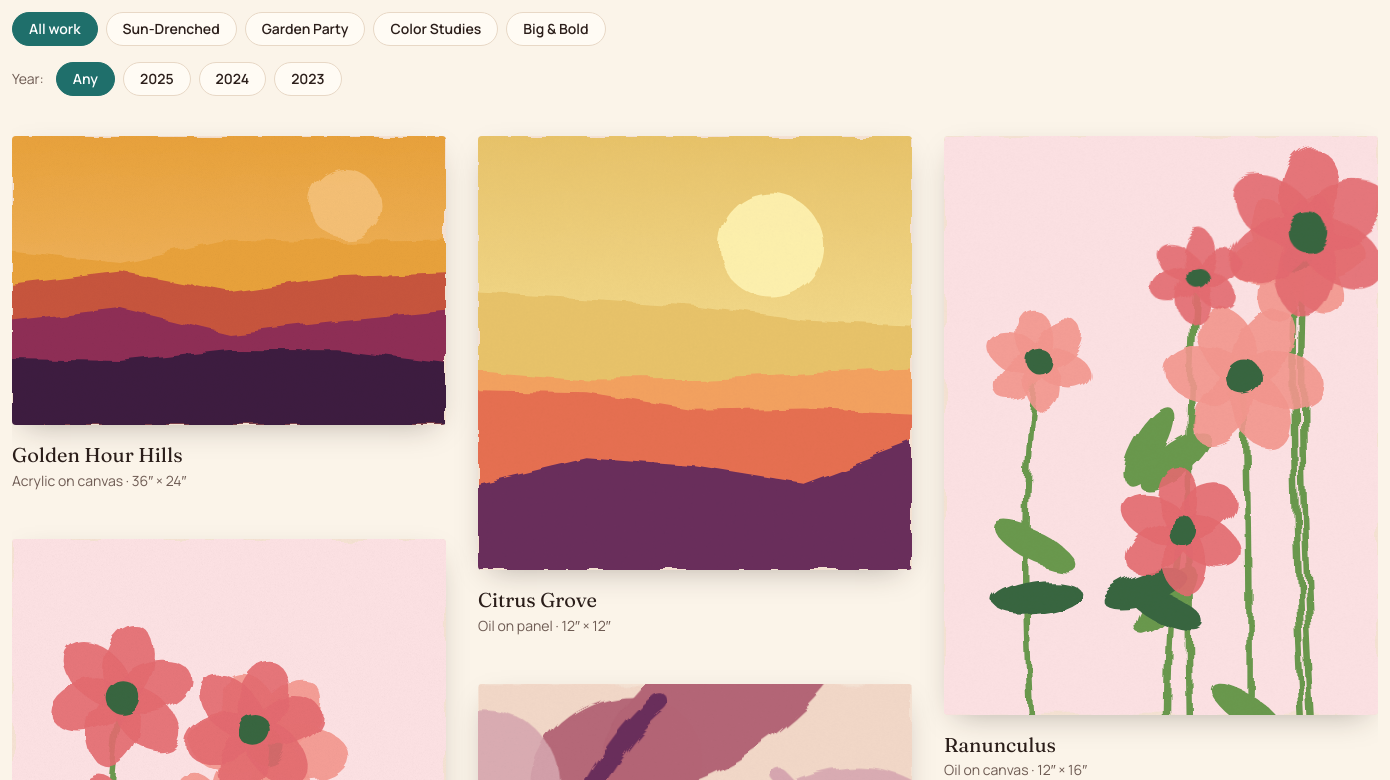
GalleryBrowser › filters by collection and back to all work
Click the button "Garden Party".
click(305, 29)  # box left=245, top=12, right=366, bottom=46
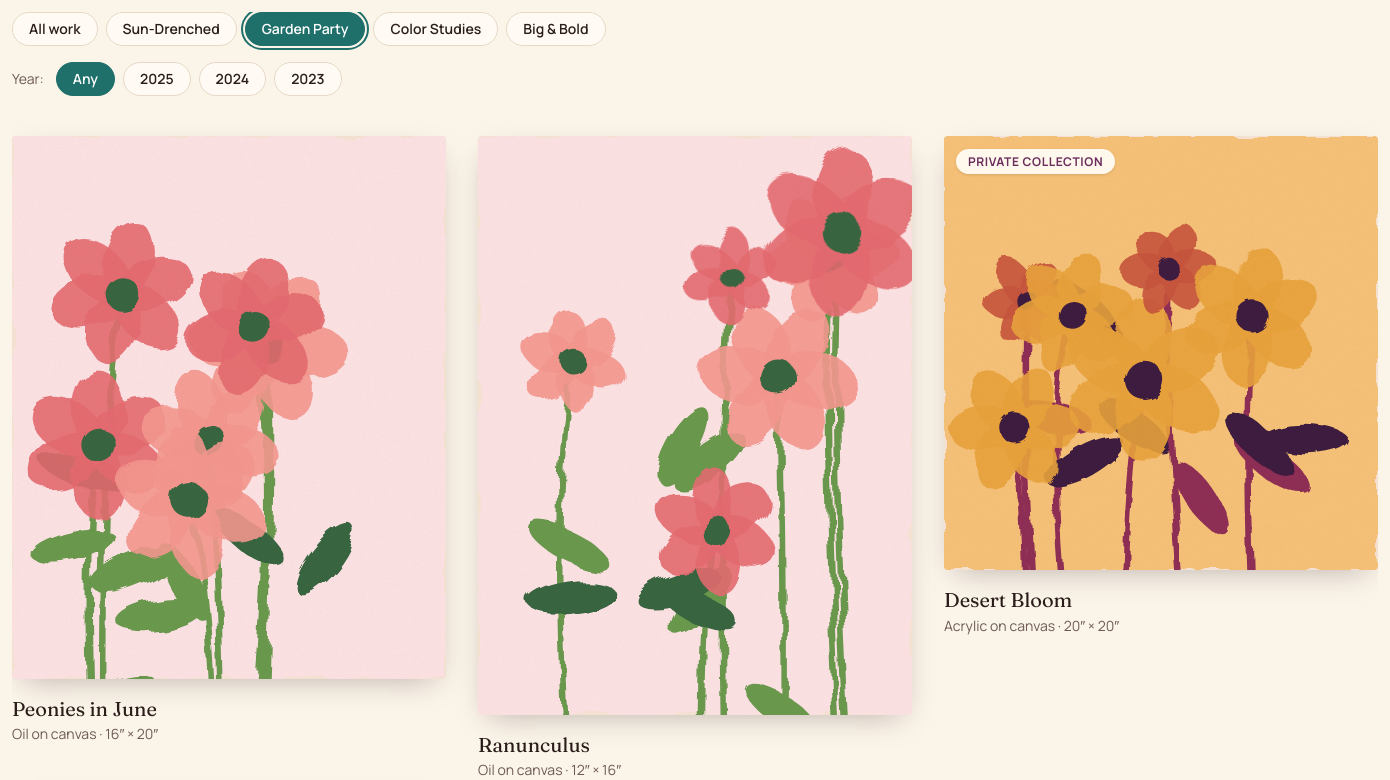
Check: the button "Garden Party" is pressed, box left=245, top=12, right=366, bottom=46
Click the button "All work".
click(55, 29)  # box left=12, top=12, right=98, bottom=46
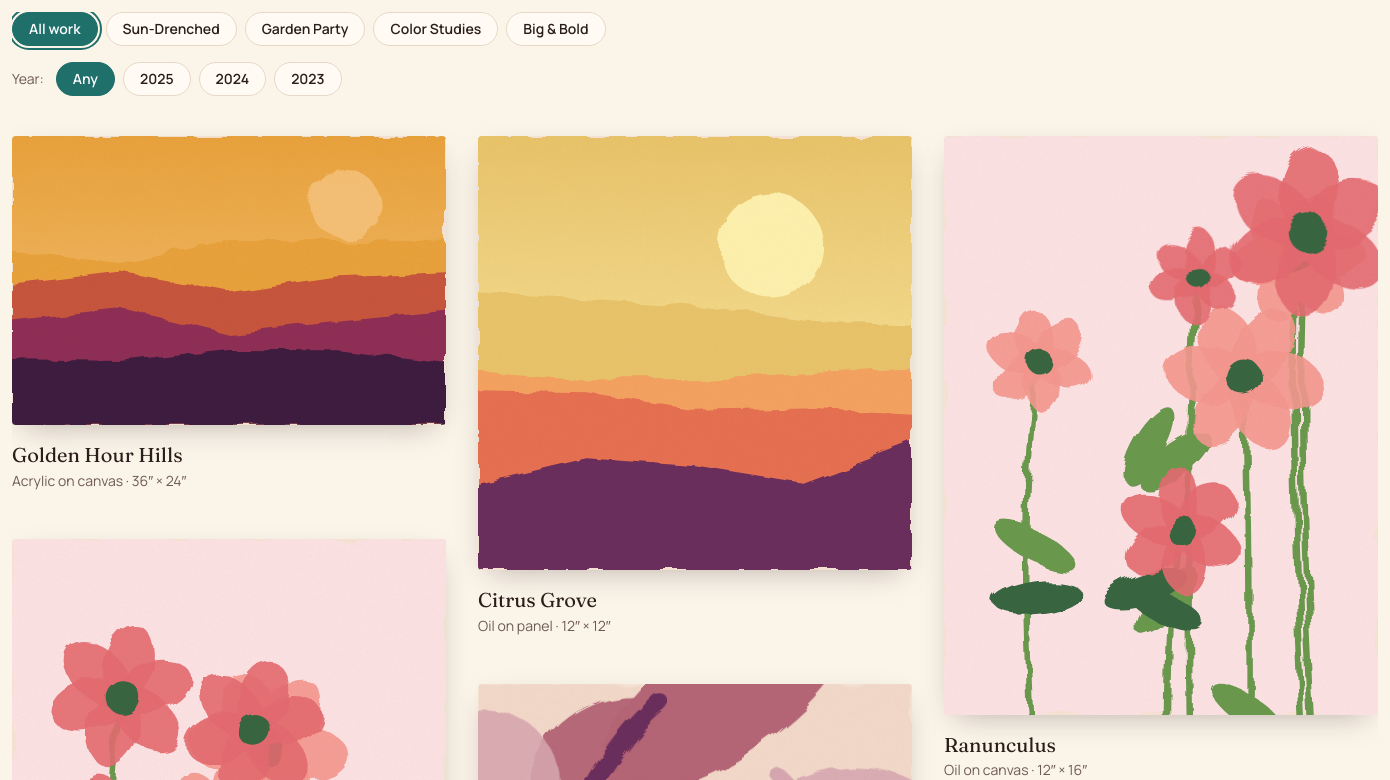
Check: the number of headings is 12
